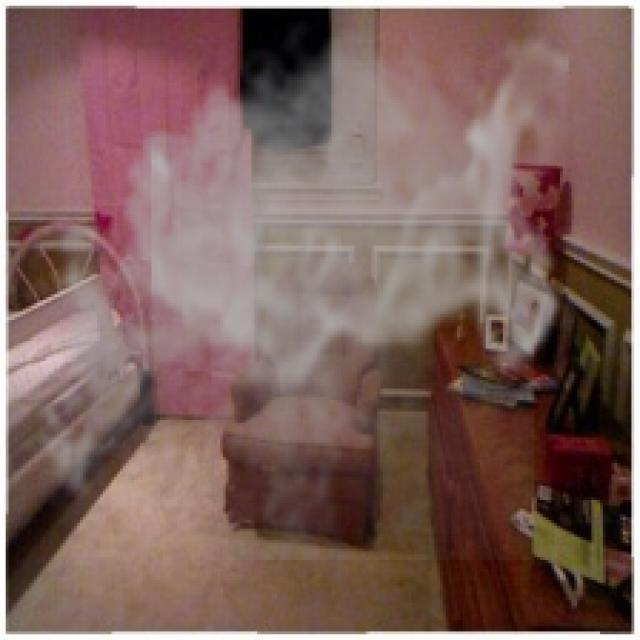smoke: (23, 9, 568, 560)
